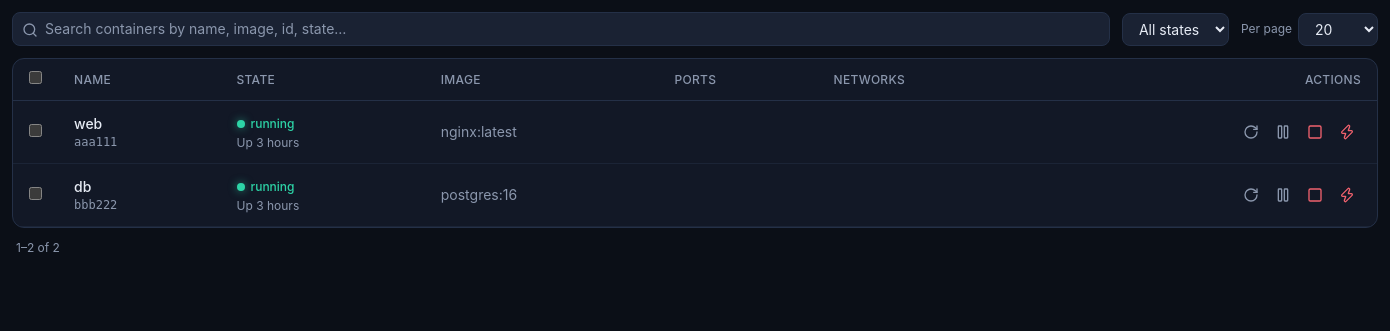
Test: selection and the bulk toolbar › selecting one row shows a toolbar with a count of 1
The width and height of the screenshot is (1390, 331).
Click the checkbox named "Select web" at (36, 130), box [29,124,42,137]
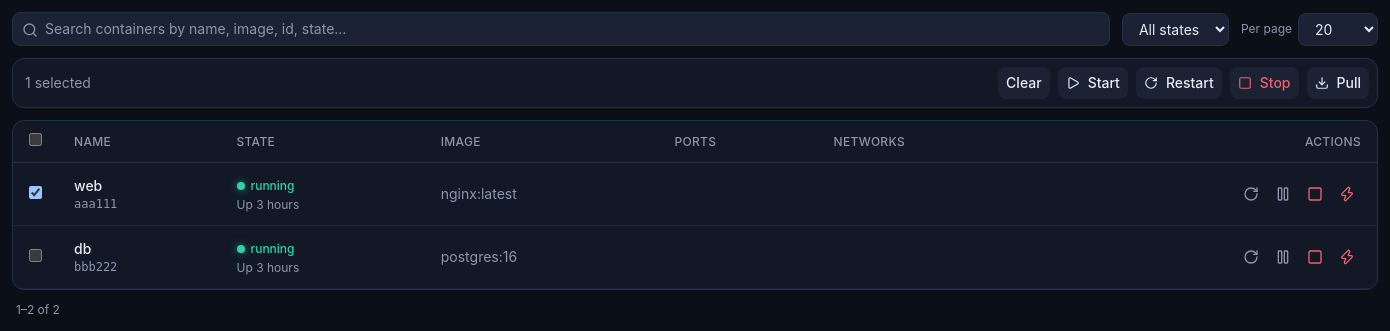
Check: the text "1 selected" is shown, box [21,73,91,93]
